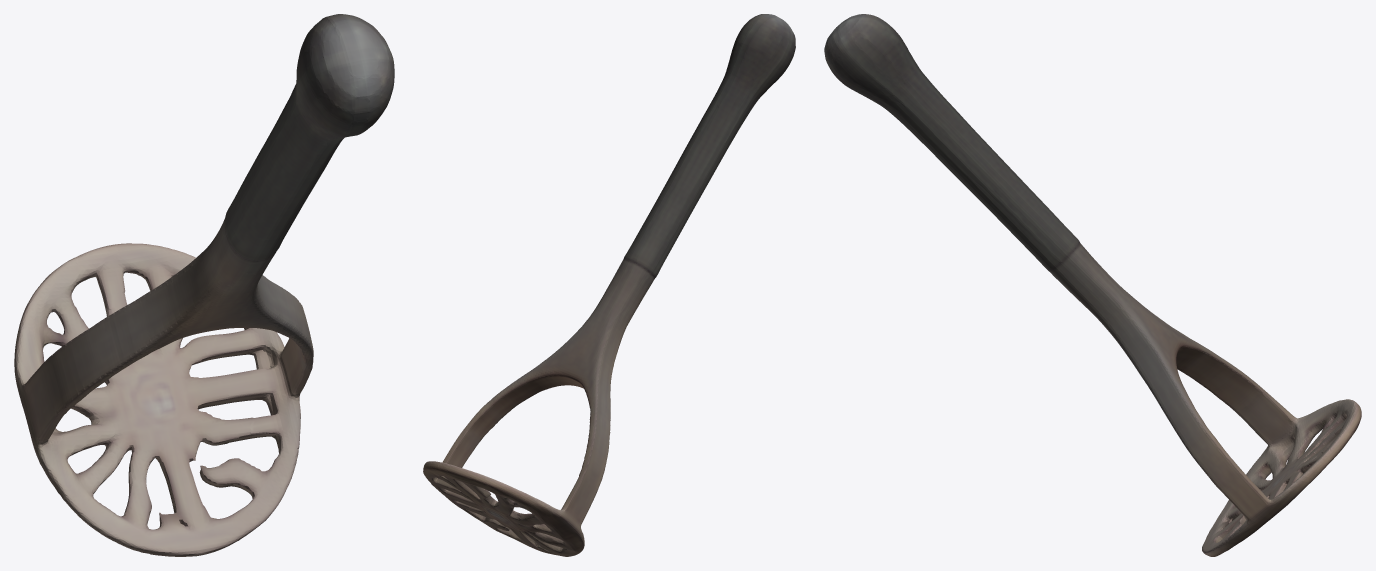
The model's file is frame_0089_source_000089_object.glb.
3 views of the same model, side by side, from view 1: azimuth 30°, elevation 25°; view 2: azimuth 150°, elevation 25°; view 3: azimuth 270°, elevation 25° (orthographic). The views are drawn at different scales.
Parts seen in each view (by area): view 1: world; view 2: world; view 3: world.
Part boxes in pixels (<box>): world: <box>14,14,394,556</box>; world: <box>423,14,795,556</box>; world: <box>824,14,1361,556</box>.
Size of the model in its own units: 0.0863 by 0.2114 by 0.2093.
